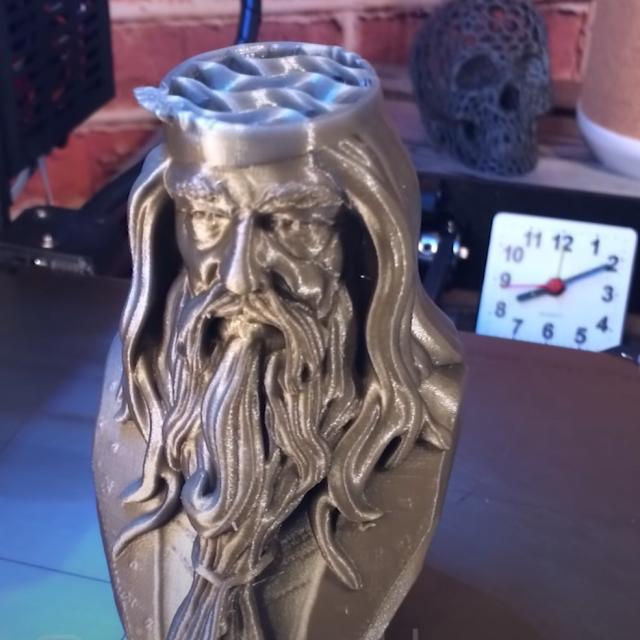Without deffect: (86, 36, 480, 640)
